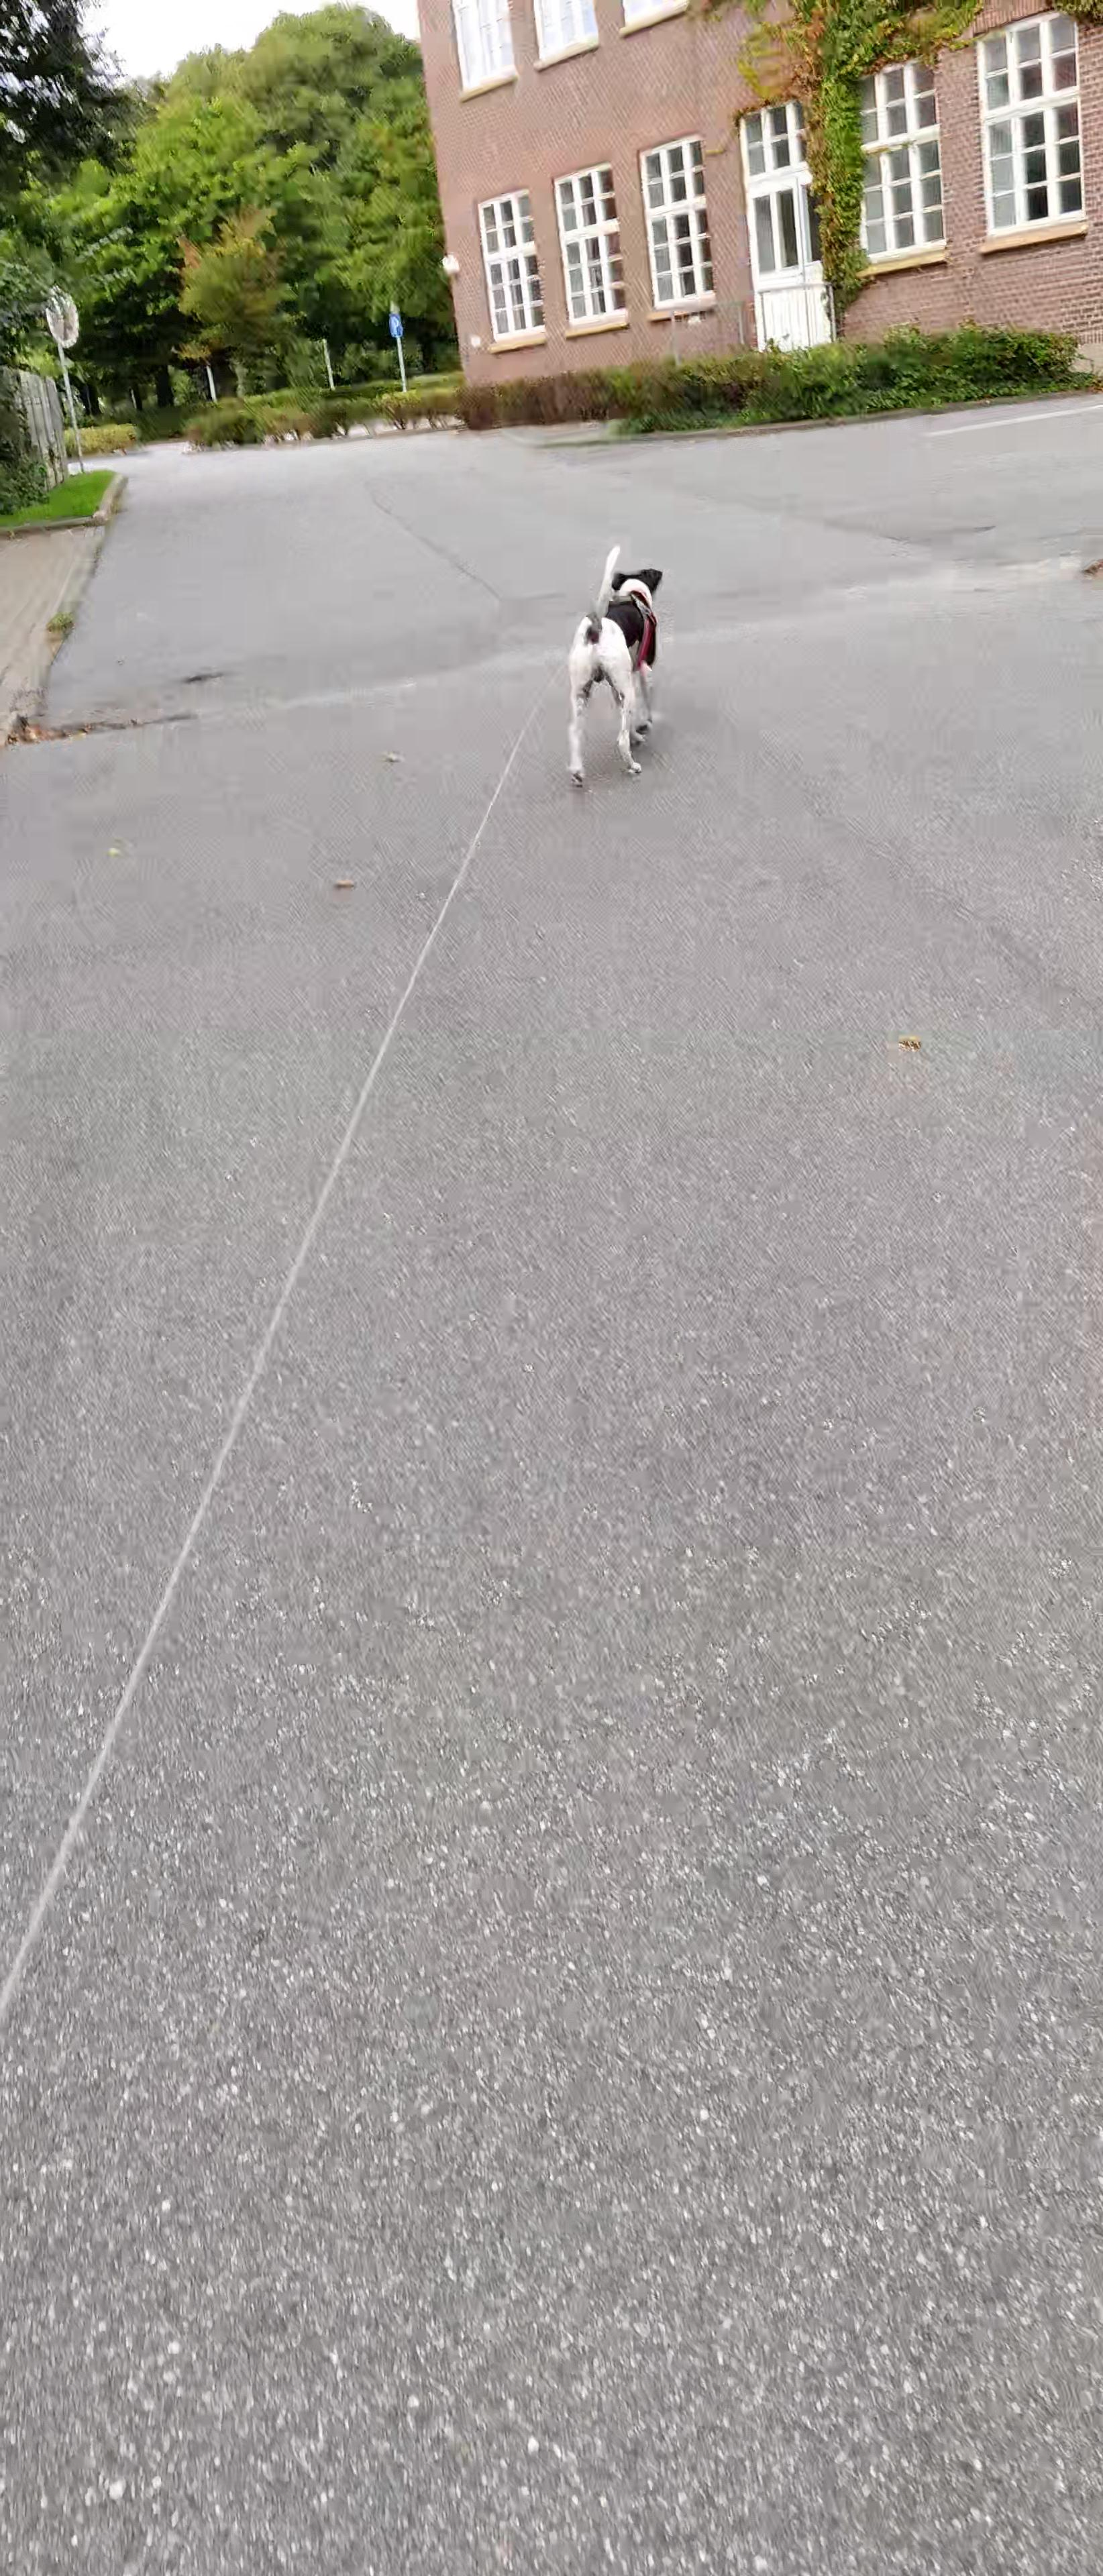Dog: (547, 536, 687, 798)
